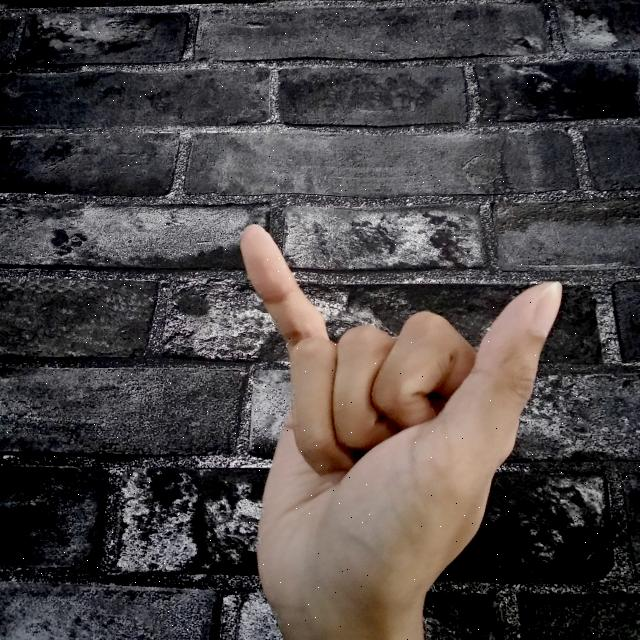Y: (227, 211, 571, 640)
